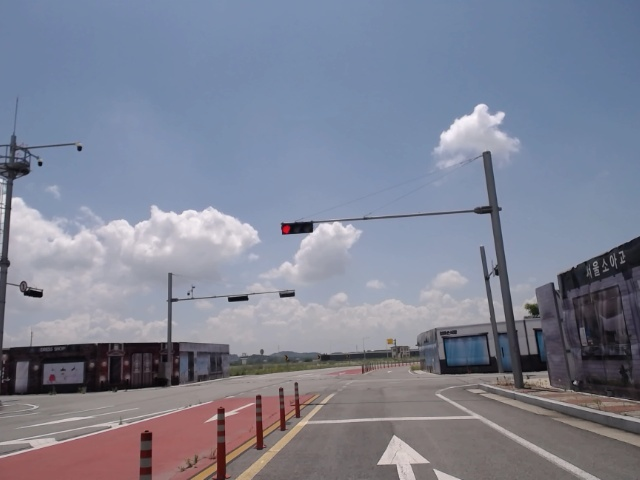red_3: (280, 221, 314, 236)
